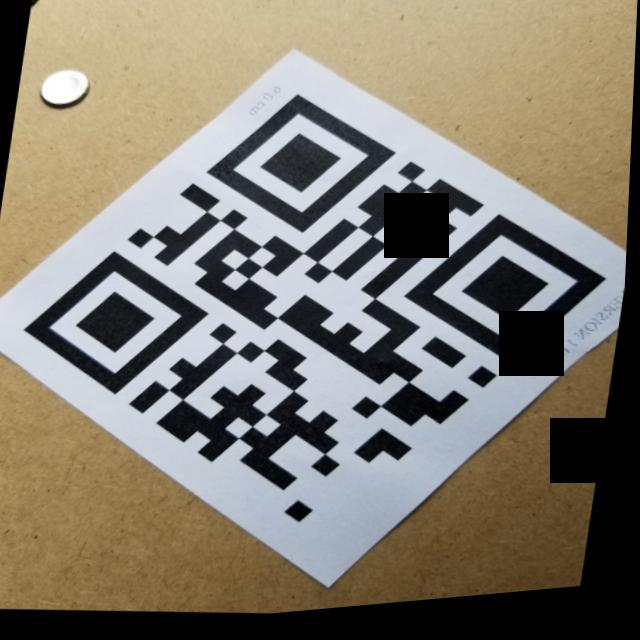QR_CODE: (0, 35, 637, 586)
